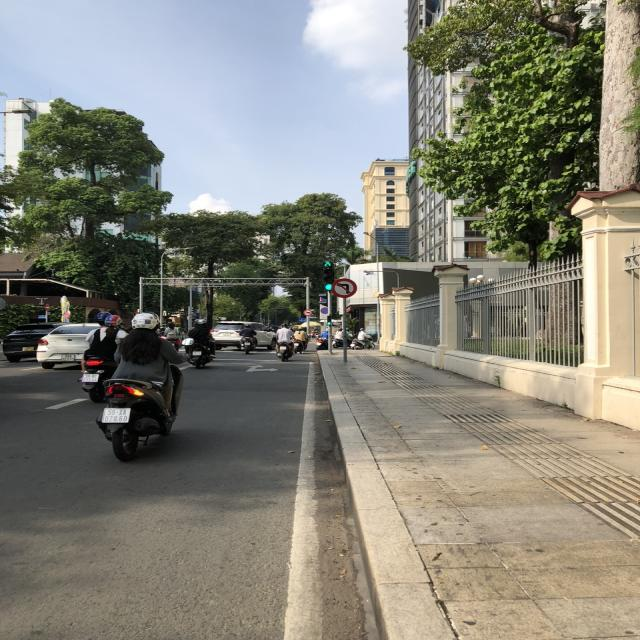Bien bao cam re trai: (326, 277, 360, 299)
